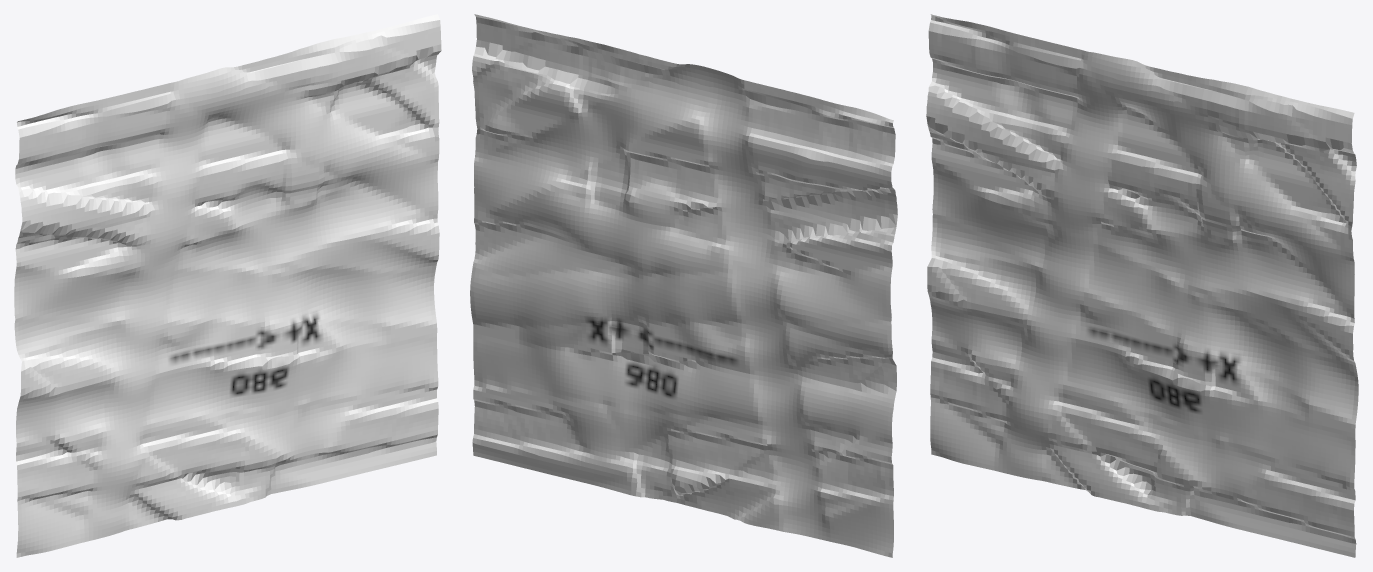
3 views of the same model, side by side, from view 1: azimuth 30°, elevation 25°; view 2: azimuth 150°, elevation 25°; view 3: azimuth 330°, elevation 25° (orthographic).
Visible parts, largest first — view 1: Ground086; view 2: Ground086; view 3: Ground086.
Part boxes in pixels (x1,y1,x2,y2): Ground086: (14,14,441,557); Ground086: (470,14,897,557); Ground086: (926,14,1358,557).
Size of what is drawn, in the model's own units: 100 by 4.21 by 101.
1 material, 1 textured.
